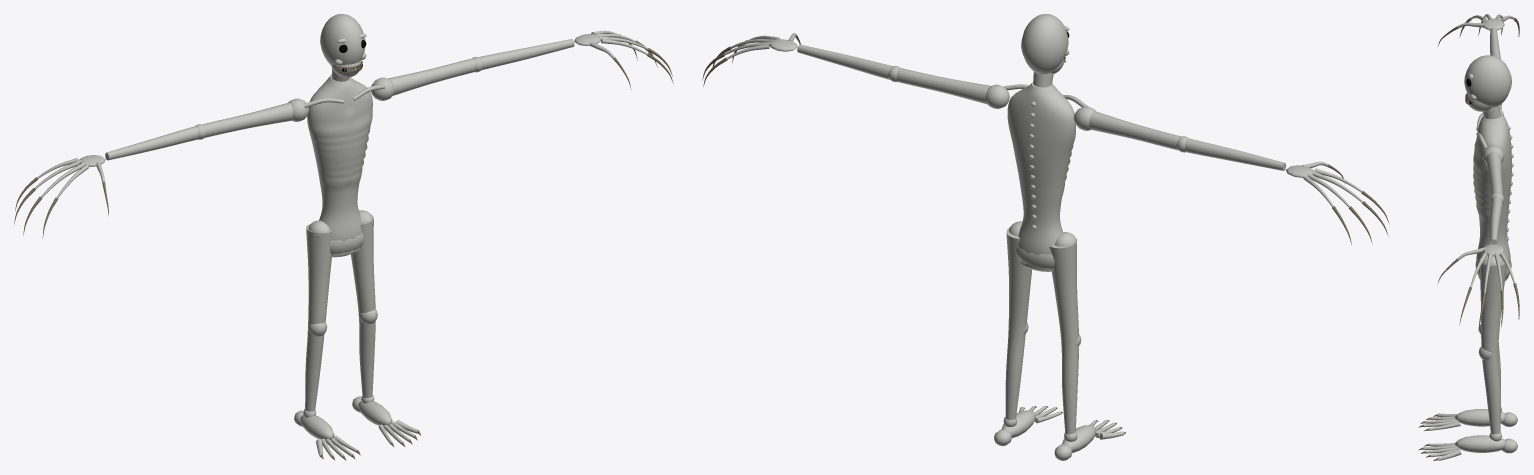
The model's file is folla_culos.obj.
3 views of the same model, side by side, from view 1: azimuth 30°, elevation 25°; view 2: azimuth 150°, elevation 25°; view 3: azimuth 270°, elevation 25° (orthographic). The views are drawn at different scales.
Visible parts, largest first — view 1: part0, part91, part106, part64, part78, part19; view 2: part0, part91, part106, part64, part78, part19; view 3: part0, part106, part19, part78, part109, part94, part64, part66, part20, part77, part80, part95 (+8 smaller).
Boxes of the visible parts, x1,y1,x2,y2 form: part0: (307, 75, 372, 255); part91: (305, 224, 332, 411); part106: (351, 215, 375, 397); part64: (105, 103, 293, 160); part78: (388, 39, 574, 95); part19: (320, 14, 365, 65); part0: (1007, 82, 1075, 270); part91: (1049, 239, 1078, 434); part106: (1005, 226, 1032, 420); part64: (1089, 111, 1285, 170); part78: (797, 44, 990, 104); part19: (1021, 14, 1068, 74); part0: (1473, 113, 1511, 280); part106: (1479, 258, 1506, 434); part19: (1464, 55, 1511, 108); part78: (1486, 151, 1502, 244); part109: (1454, 435, 1504, 452); part94: (1454, 409, 1504, 426); part64: (1490, 27, 1501, 109); part66: (1483, 18, 1504, 30); part20: (1466, 94, 1491, 111); part77: (1482, 145, 1504, 164); part80: (1483, 244, 1504, 256); part95: (1502, 412, 1517, 426).
Bounding box in the file's own units: 3.85 × 2.33 × 0.5591.
